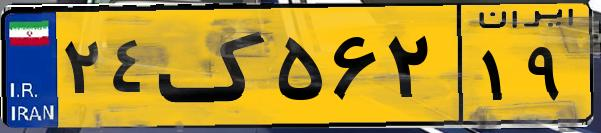1: (475, 38, 525, 113)
2: (385, 28, 445, 110), (57, 26, 110, 100)
4: (110, 28, 158, 98)
5: (270, 28, 330, 110)
6: (330, 28, 385, 110)
9: (525, 38, 570, 115)
ک: (158, 12, 270, 120)
